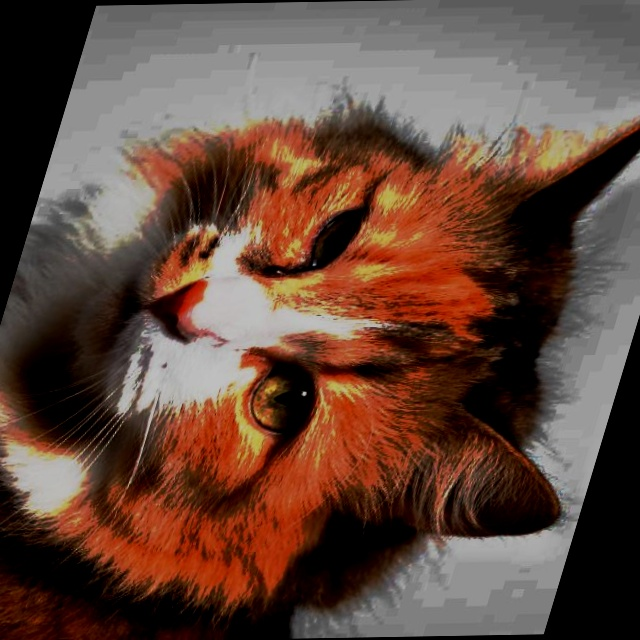eye_infection: (263, 216, 370, 280)
